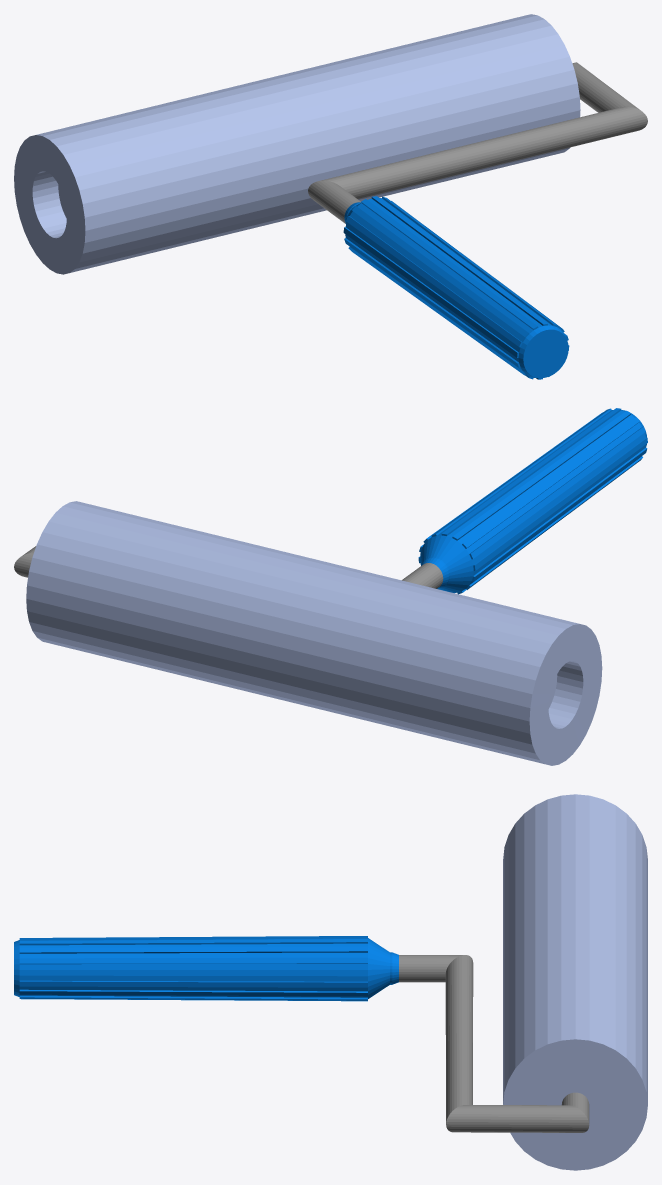
The model's file is PaintRoller.fbx.
3 renders of one model, top to bottom at view 1: azimuth 30°, elevation 25°; view 2: azimuth 150°, elevation 25°; view 3: azimuth 270°, elevation 25°, orthographic.
Visible parts, largest first — view 1: PaintRoller; view 2: PaintRoller; view 3: PaintRoller.
Part boxes in pixels (left/top/right/bottom): PaintRoller: left=14, top=14, right=647, bottom=379; PaintRoller: left=14, top=408, right=647, bottom=765; PaintRoller: left=14, top=794, right=647, bottom=1170.
Size of the model in its own units: 48.69 by 49.17 by 11.24.
